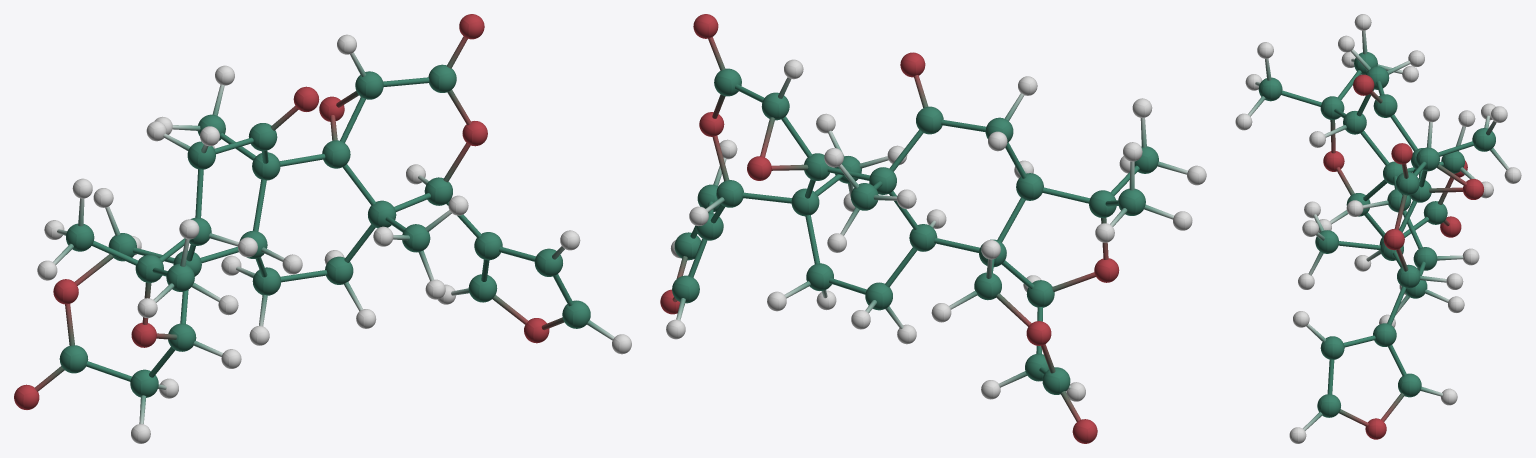
The model's file is Limonin.fbx.
3 views of the same model, side by side, from view 1: azimuth 30°, elevation 25°; view 2: azimuth 150°, elevation 25°; view 3: azimuth 270°, elevation 25° (orthographic). The views are drawn at different scales.
Visible parts, largest first — view 1: curMeshHyperballExportedMesh; view 2: curMeshHyperballExportedMesh; view 3: curMeshHyperballExportedMesh.
Part boxes in pixels (<box>): curMeshHyperballExportedMesh: <box>14,14,631,443</box>; curMeshHyperballExportedMesh: <box>660,14,1206,443</box>; curMeshHyperballExportedMesh: <box>1235,14,1521,443</box>.
Bounding box in the file's own units: 12.87 × 7.19 × 6.79.
